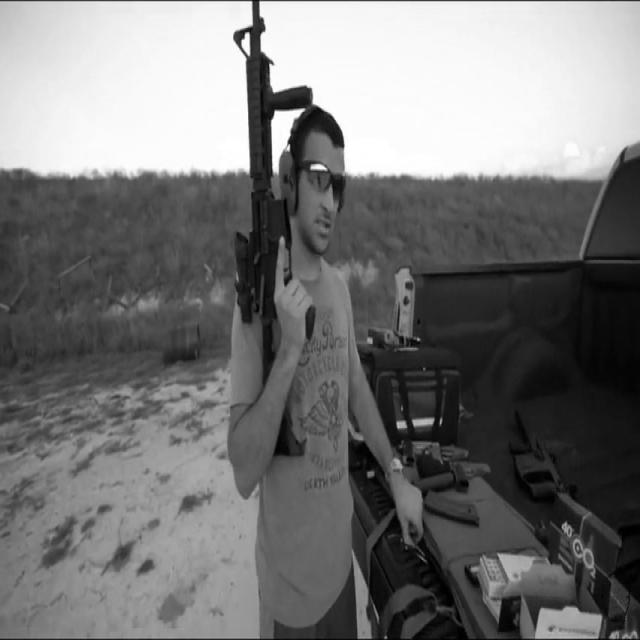Sniper: (158, 0, 385, 495)
